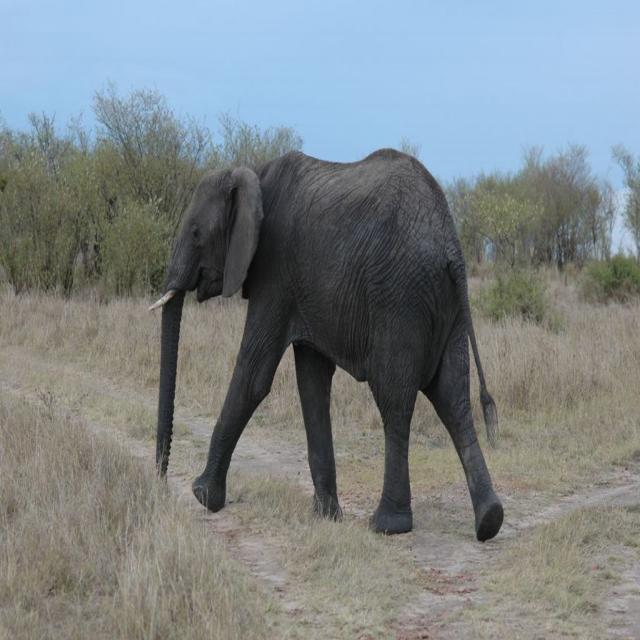Elephant: (146, 148, 504, 543)
